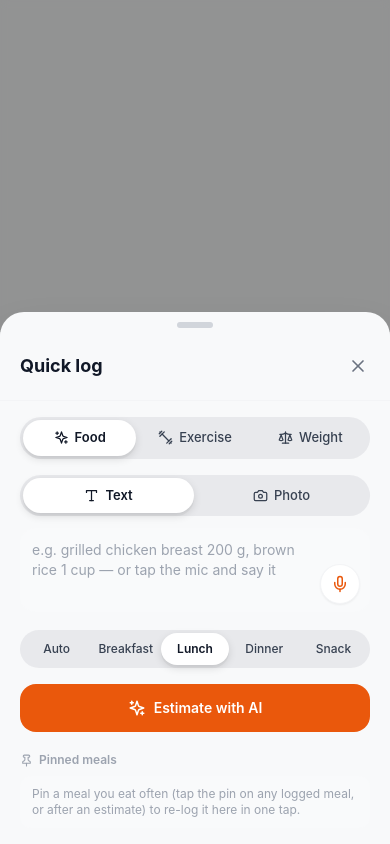
Test: LogModal saving and errors › shows a plain-language error with Try again
Replace the text in the text box with placeholder "grilled chicken" with "soup" at (195, 570), box [20,528,370,612]
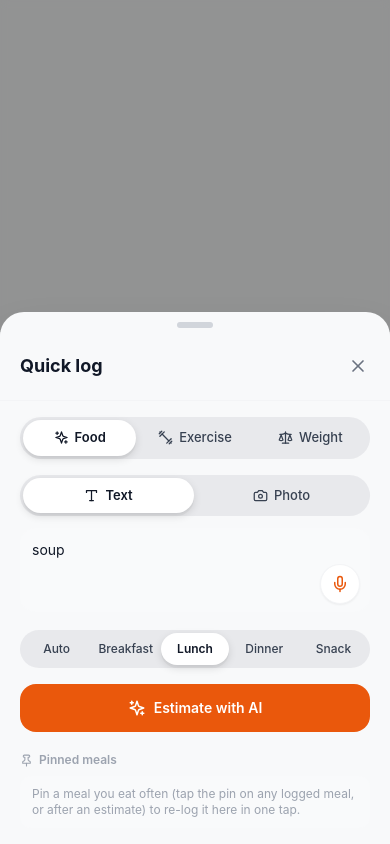
Click the button "Estimate with AI" at (195, 708), box [20,684,370,732]
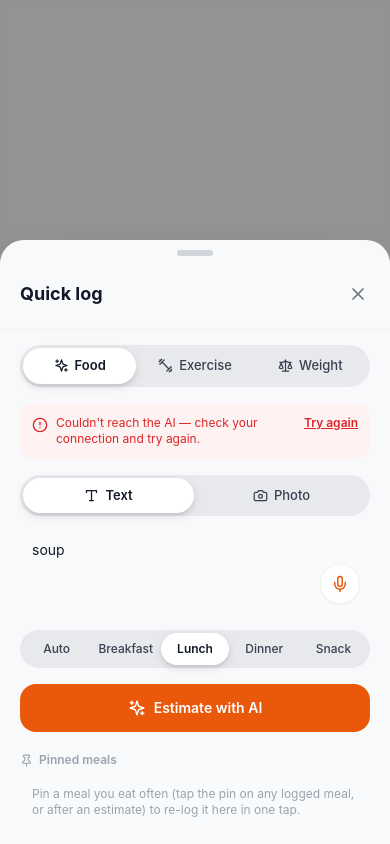
Expected: the text "Couldn't reach the AI — check your connection and try again." is shown, [56,414,258,446]
Click the button "Try again" at (331, 422), box [304,414,358,430]
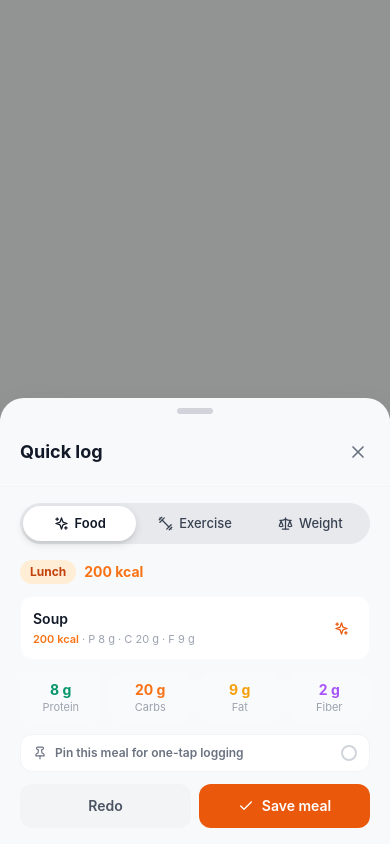
Expected: the button "Save meal" is shown, [199,784,370,828]
